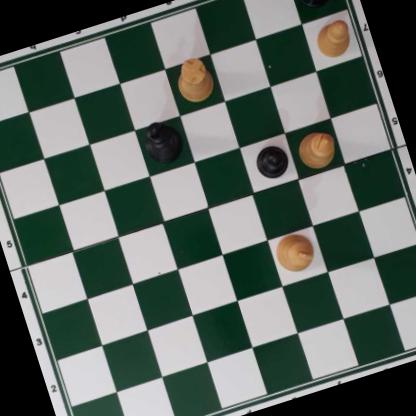black-king: (138, 115, 189, 168)
black-pawn: (251, 140, 292, 183)
black-rook: (286, 0, 344, 12)
white-bishop: (294, 126, 340, 173)
white-king: (268, 227, 320, 278)
white-pawn: (311, 15, 356, 61)
white-rook: (169, 55, 217, 105)
